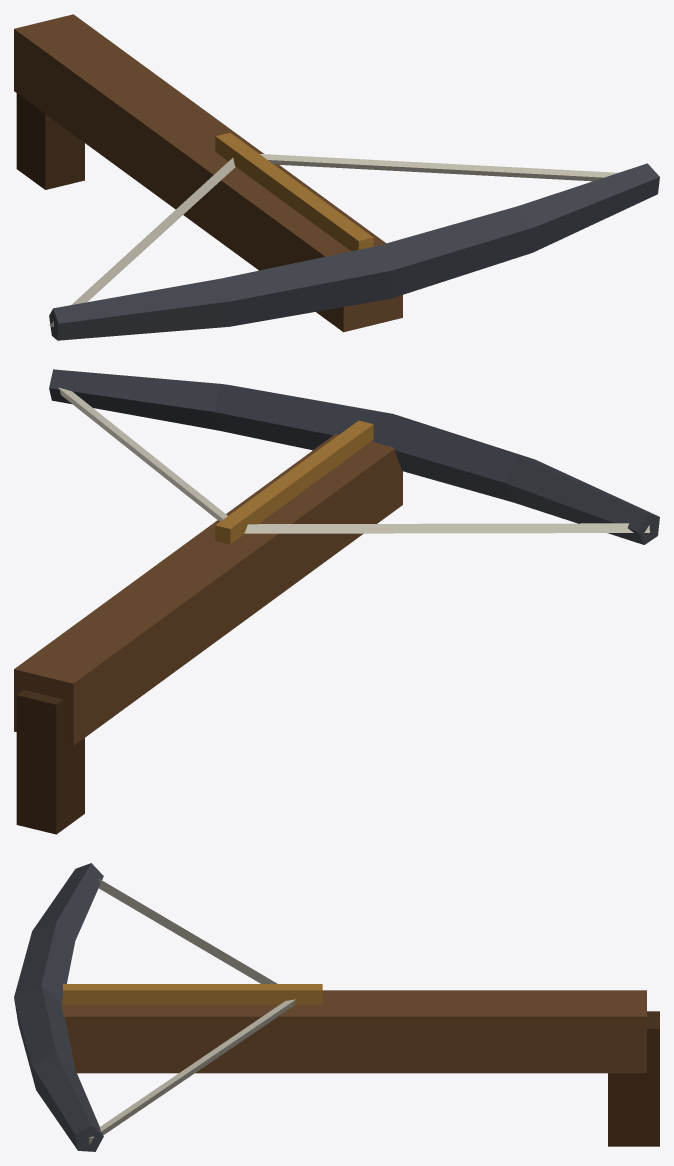
The model's file is weapon_crossbow.glb.
3 renders of one model, top to bottom at view 1: azimuth 30°, elevation 25°; view 2: azimuth 150°, elevation 25°; view 3: azimuth 270°, elevation 25°, orthographic. The views are drawn at different scales.
Parts seen in each view (by area): view 1: weapon_crossbow; view 2: weapon_crossbow; view 3: weapon_crossbow.
Boxes of the visible parts, box(x1,y1,x2,y2) form: weapon_crossbow: box(14, 14, 659, 340); weapon_crossbow: box(14, 369, 659, 834); weapon_crossbow: box(14, 863, 659, 1151).
Bounding box in the file's own units: 0.7272 × 0.1946 × 0.7465.
